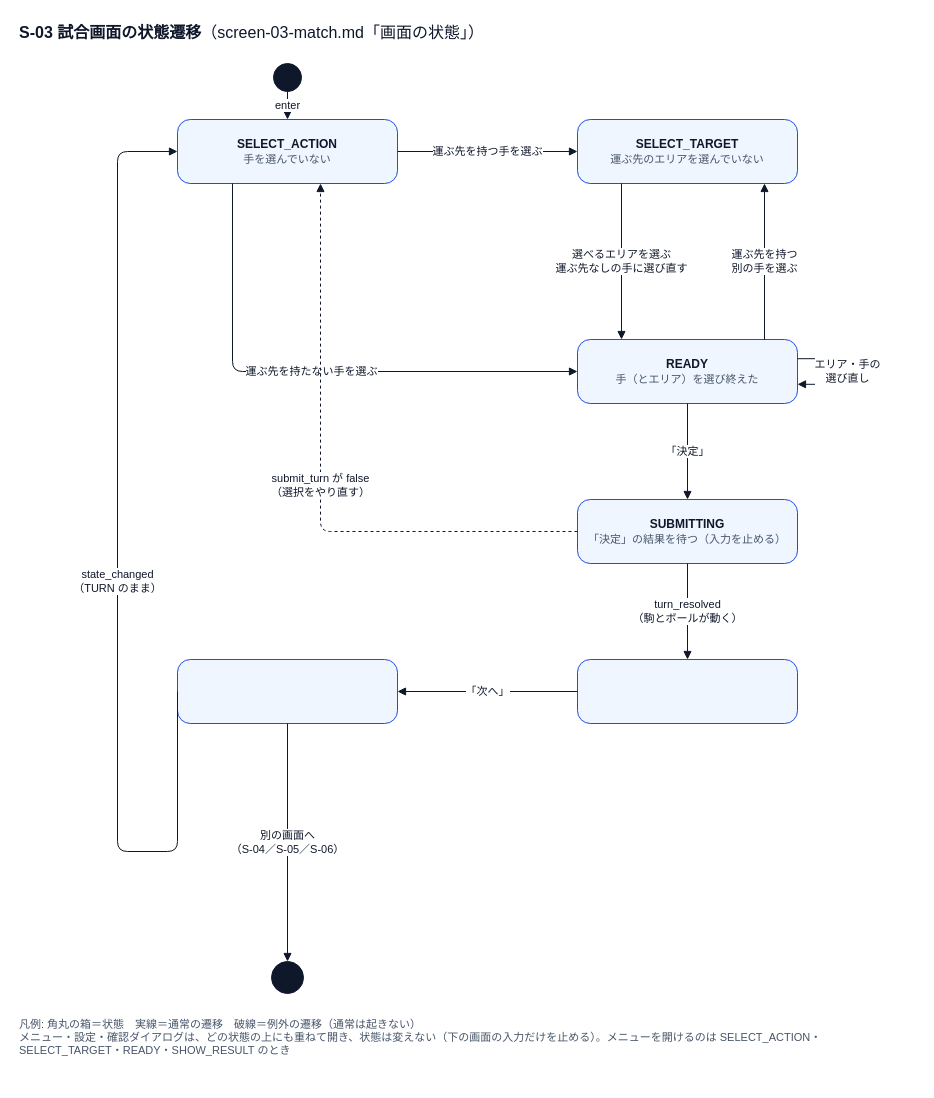
Image size: 934x1098. Some labels were removed from this diagram. The shapes that lost their labels are listed below. From the top down, each one's centre as x and y in pixels, then its label:
At pixel 287 691: "LEAVING 画面の切り替えを待つ（入力を止める）".
At pixel 687 691: "SHOW_RESULT 動きの矢印と判定理由".
